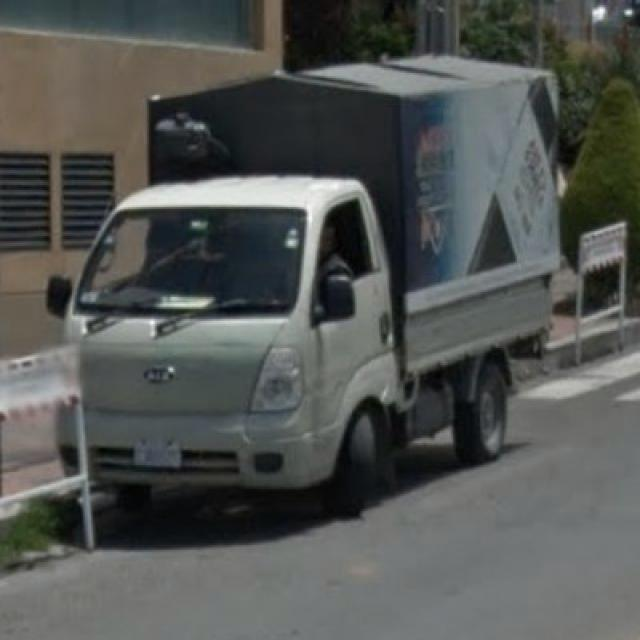Car: (61, 69, 570, 523)
